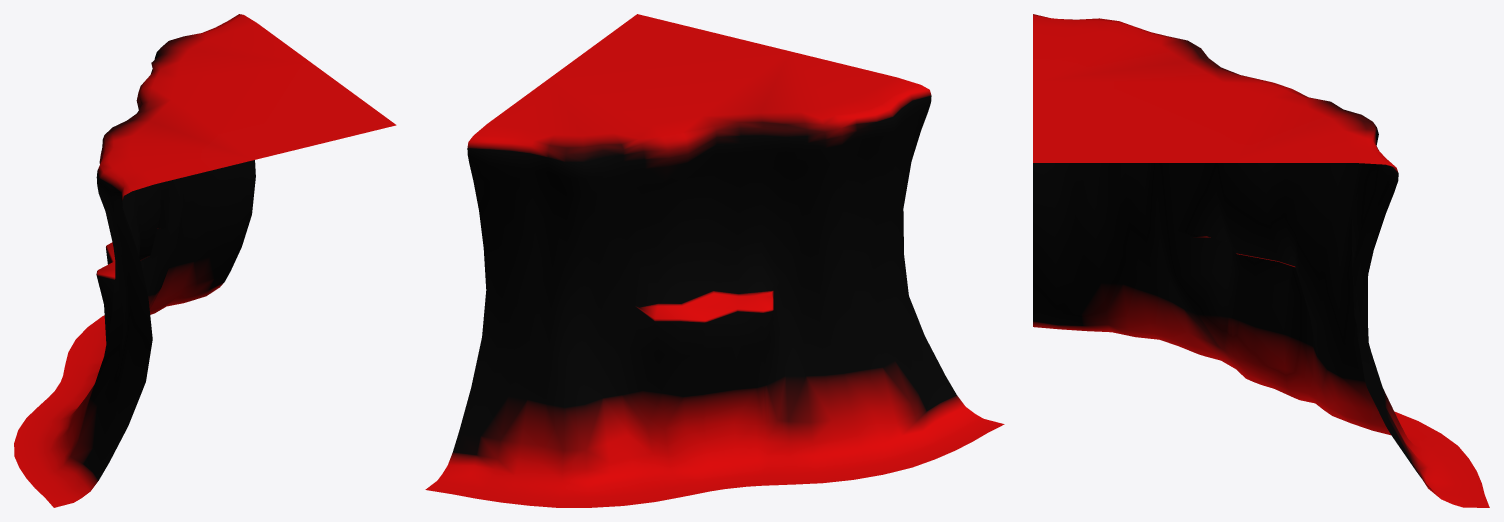
File: GroundCliff03B 2M Background.fbx
3 views of the same model, side by side, from view 1: azimuth 30°, elevation 25°; view 2: azimuth 150°, elevation 25°; view 3: azimuth 270°, elevation 25° (orthographic). The views are drawn at different scales.
Parts seen in each view (by area): view 1: GroundCliff03B 2M Background; view 2: GroundCliff03B 2M Background; view 3: GroundCliff03B 2M Background.
Boxes of the visible parts, left/top/right/bottom form: GroundCliff03B 2M Background: left=14, top=14, right=396, bottom=507; GroundCliff03B 2M Background: left=425, top=14, right=1004, bottom=507; GroundCliff03B 2M Background: left=1033, top=14, right=1489, bottom=507.
Bounding box in the file's own units: 2.4 × 2 × 2.4.
